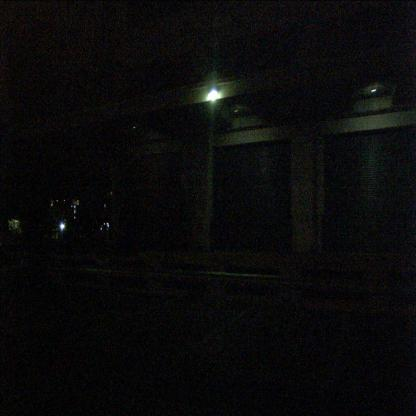vehicle-car: (44, 211, 68, 245)
